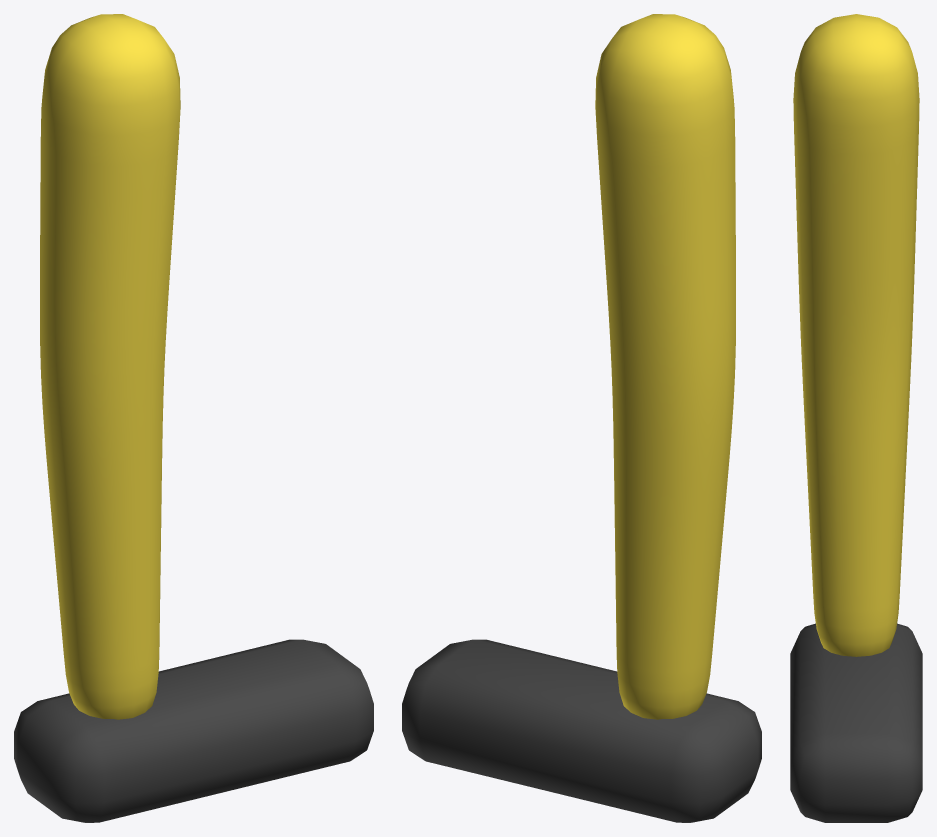
File: SM_SkinStealer_Shin.fbx
3 renders of one model, left to right at view 1: azimuth 30°, elevation 25°; view 2: azimuth 150°, elevation 25°; view 3: azimuth 270°, elevation 25°, orthographic. The views are drawn at different scales.
Visible parts, largest first — view 1: SM_SkinStealer_Shin; view 2: SM_SkinStealer_Shin; view 3: SM_SkinStealer_Shin.
Part boxes in pixels (x1=…): SM_SkinStealer_Shin: x1=14, y1=14, x2=373, y2=822; SM_SkinStealer_Shin: x1=402, y1=14, x2=761, y2=822; SM_SkinStealer_Shin: x1=790, y1=14, x2=922, y2=822.
Size of the model in its own units: 24 by 56.24 by 9.5.
